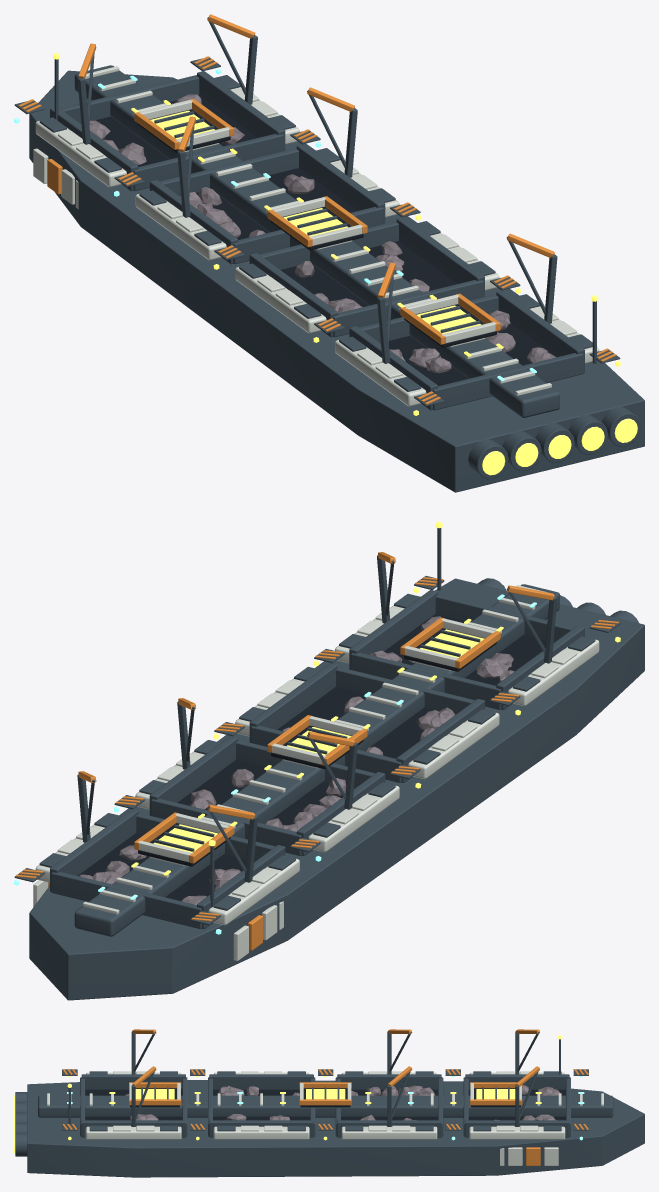
The model's file is leviathan.glb.
3 renders of one model, top to bottom at view 1: azimuth 30°, elevation 25°; view 2: azimuth 150°, elevation 25°; view 3: azimuth 270°, elevation 25°, orthographic. The views are drawn at different scales.
Visible parts, largest first — view 1: Armored keel, Reactor spine, Bay cross bulkhead, Cargo bay floor.001, Bay longitudinal coaming.007, Bay longitudinal coaming.005, Bay longitudinal coaming.003, Bay longitudinal coaming.001, Bay cross bulkhead.006, Cargo bay floor, Bay cross bulkhead.002, Bay cross bulkhead.007 (+21 smaller); view 2: Armored keel, Reactor spine, Bay cross bulkhead.007, Cargo bay floor.001, Bay cross bulkhead.001, Bay longitudinal coaming.005, Bay longitudinal coaming.007, Bay longitudinal coaming.003, Bay longitudinal coaming.001, Cargo bay floor.002, Cargo bay floor.003, Bay cross bulkhead.002 (+16 smaller); view 3: Armored keel, Reactor spine, Bay longitudinal coaming.002, Bay longitudinal coaming.004, Bay longitudinal coaming, Bay longitudinal coaming.006, Layered shoulder armor.005, Layered shoulder armor.007, Layered shoulder armor.003, Layered shoulder armor.001, Bay longitudinal coaming.003, Bay longitudinal coaming.005 (+26 smaller).
Part boxes in pixels (bbox=[...]): Armored keel: bbox=[29, 70, 644, 492]; Reactor spine: bbox=[74, 65, 559, 417]; Bay cross bulkhead: bbox=[433, 353, 583, 410]; Cargo bay floor.001: bbox=[281, 241, 456, 306]; Bay longitudinal coaming.007: bbox=[197, 71, 285, 150]; Bay longitudinal coaming.005: bbox=[296, 144, 385, 223]; Bay longitudinal coaming.003: bbox=[396, 217, 484, 296]; Bay longitudinal coaming.001: bbox=[496, 290, 584, 373]; Bay cross bulkhead.006: bbox=[133, 133, 283, 190]; Cargo bay floor: bbox=[380, 323, 556, 386]; Bay cross bulkhead.002: bbox=[333, 280, 483, 337]; Bay cross bulkhead.007: bbox=[60, 75, 199, 123]; Armored keel: bbox=[29, 578, 644, 1000]; Reactor spine: bbox=[74, 584, 559, 936]; Bay cross bulkhead.007: bbox=[51, 871, 201, 928]; Cargo bay floor.001: bbox=[277, 687, 432, 758]; Bay cross bulkhead.001: bbox=[351, 652, 501, 709]; Bay longitudinal coaming.005: bbox=[149, 736, 238, 815]; Bay longitudinal coaming.007: bbox=[50, 809, 138, 891]; Bay longitudinal coaming.003: bbox=[249, 663, 337, 742]; Bay longitudinal coaming.001: bbox=[349, 590, 437, 669]; Cargo bay floor.002: bbox=[177, 760, 354, 825]; Cargo bay floor.003: bbox=[78, 833, 254, 900]; Bay cross bulkhead.002: bbox=[336, 667, 474, 714]; Armored keel: bbox=[27, 1080, 644, 1177]; Reactor spine: bbox=[38, 1095, 613, 1117]; Bay longitudinal coaming.002: bbox=[209, 1074, 313, 1089]; Bay longitudinal coaming.004: bbox=[337, 1074, 441, 1089]; Bay longitudinal coaming: bbox=[81, 1074, 185, 1089]; Bay longitudinal coaming.006: bbox=[465, 1074, 569, 1089]; Layered shoulder armor.005: bbox=[341, 1126, 437, 1139]; Layered shoulder armor.007: bbox=[469, 1126, 565, 1139]; Layered shoulder armor.003: bbox=[213, 1126, 309, 1139]; Layered shoulder armor.001: bbox=[85, 1126, 181, 1139]; Bay longitudinal coaming.003: bbox=[209, 1120, 313, 1137]; Bay longitudinal coaming.005: bbox=[337, 1120, 441, 1137].
Bounding box in the file's own units: 7.6 × 4.93 × 29.61.
